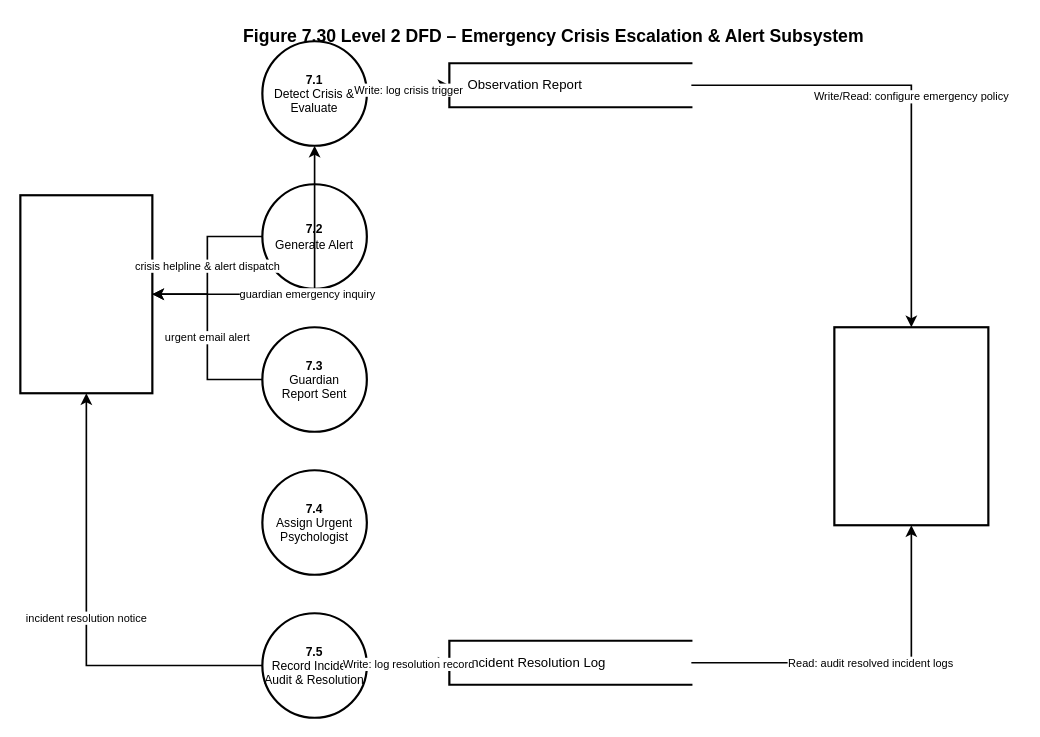
The diagram is 1040 pixels wide and 737 high, and some of its shapes have lost their labels. The shapes that lost their labels are listed below. From the top down, each one's centre as x and y in pixels, then its label:
At point 86,294: "Guardian".
At point 911,426: "Administrator".
